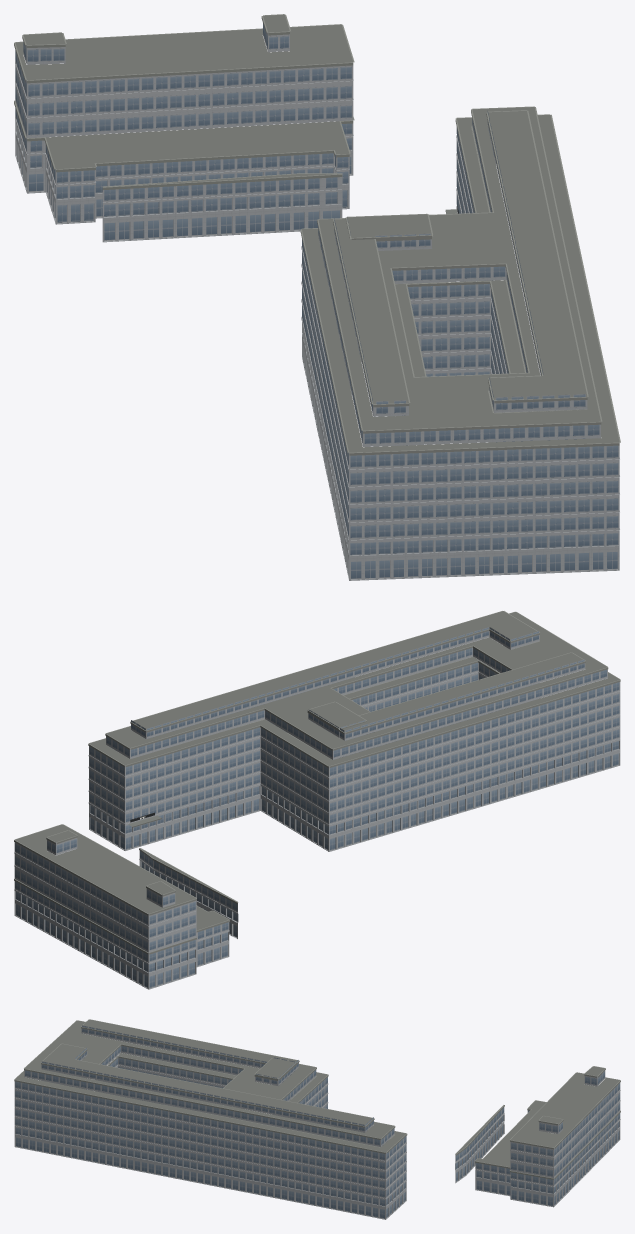
File: westpark.glb
3 views of the same model, one above another, from view 1: azimuth 30°, elevation 25°; view 2: azimuth 150°, elevation 25°; view 3: azimuth 270°, elevation 25° (orthographic). The views are drawn at different scales.
Visible parts, largest first — view 1: westpark; view 2: westpark; view 3: westpark.
Boxes of the visible parts, x1,y1,x2,y2 form: westpark: (14, 14, 620, 580); westpark: (14, 611, 620, 989); westpark: (14, 1019, 620, 1219).
Bounding box in the file's own units: 107 × 32.66 × 214.
Materials: 3 (3 with a texture image).
